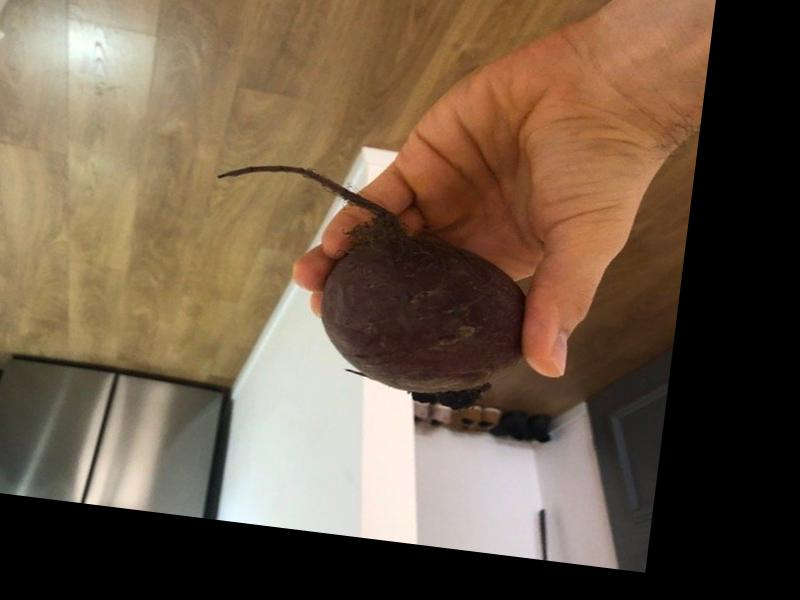Beet: (193, 157, 541, 414)
